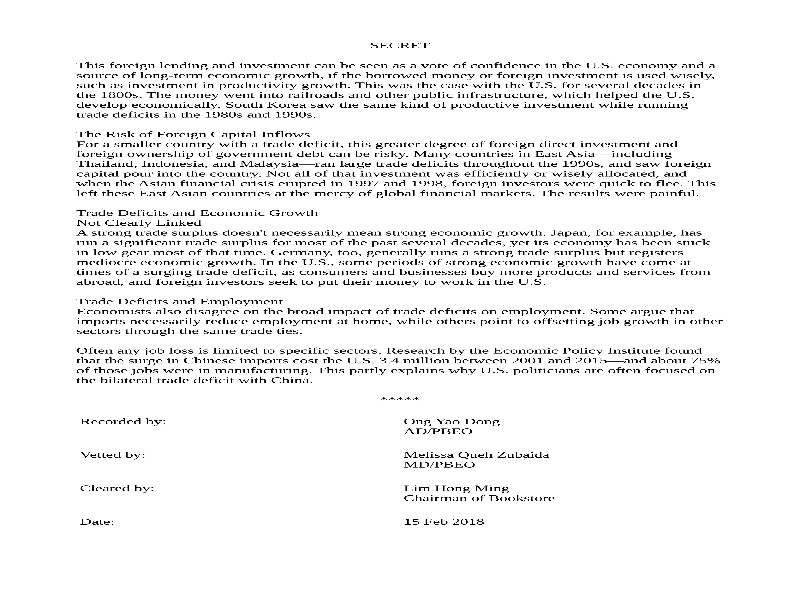borderless: (73, 409, 573, 539)
cell: (399, 478, 563, 507), (399, 446, 561, 472), (400, 416, 508, 440), (400, 513, 489, 530), (78, 415, 171, 431), (78, 481, 159, 497), (78, 447, 152, 463), (76, 512, 118, 530)
